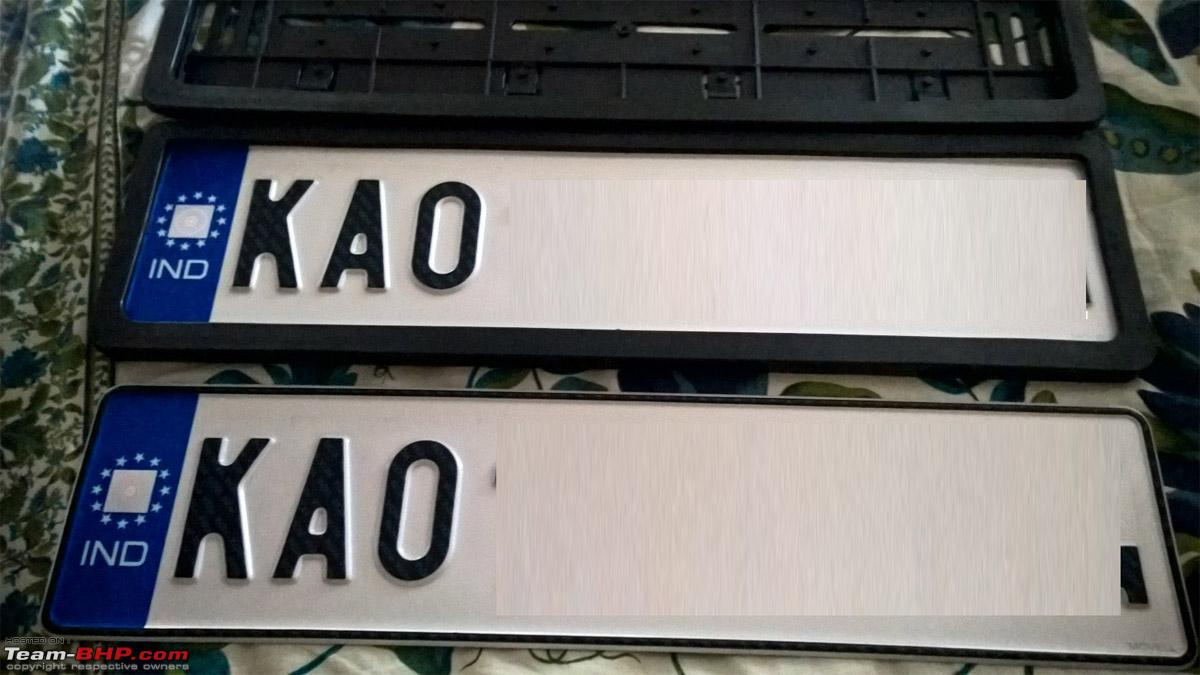inlp: (42, 378, 1200, 669), (75, 138, 1126, 367)
